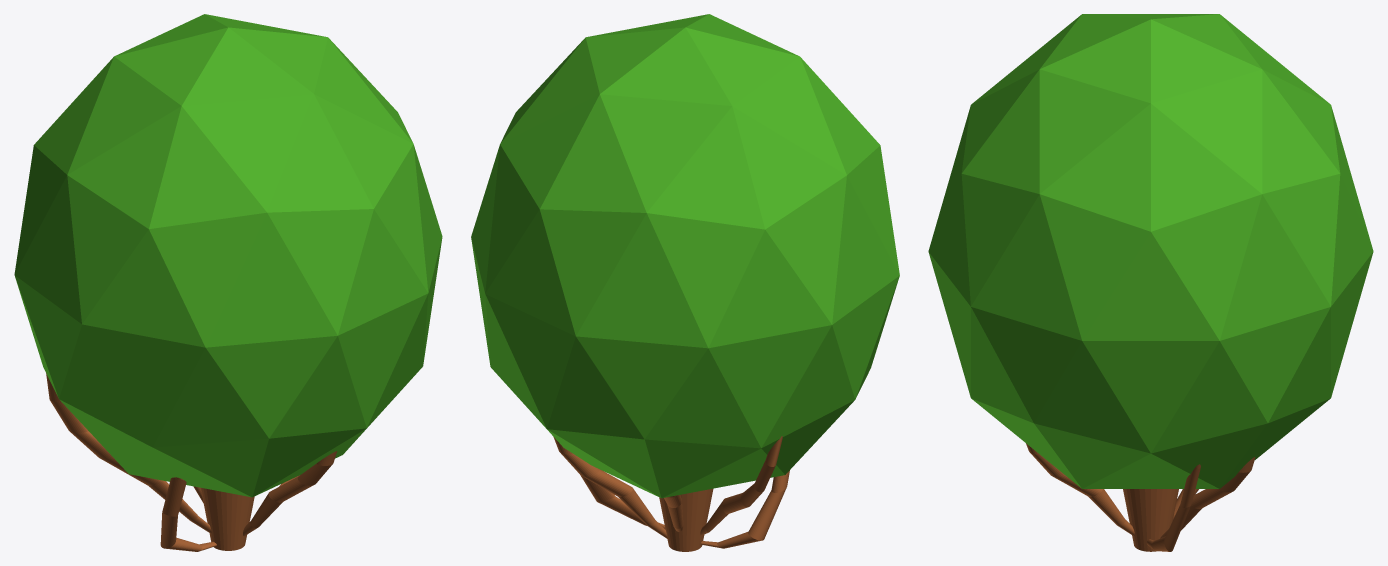
The model's file is Busch_1.fbx.
3 views of the same model, side by side, from view 1: azimuth 30°, elevation 25°; view 2: azimuth 150°, elevation 25°; view 3: azimuth 270°, elevation 25° (orthographic).
Visible parts, largest first — view 1: Icosphere, Cylinder.004; view 2: Icosphere, Cylinder.004; view 3: Icosphere, Cylinder.004.
Part boxes in pixels (<box>): Icosphere: <box>14,14,442,497</box>; Cylinder.004: <box>46,373,337,551</box>; Icosphere: <box>471,14,899,498</box>; Cylinder.004: <box>553,436,789,551</box>; Icosphere: <box>928,14,1373,488</box>; Cylinder.004: <box>1026,443,1255,551</box>.
Size of the model in its own units: 232 by 317 by 244.
